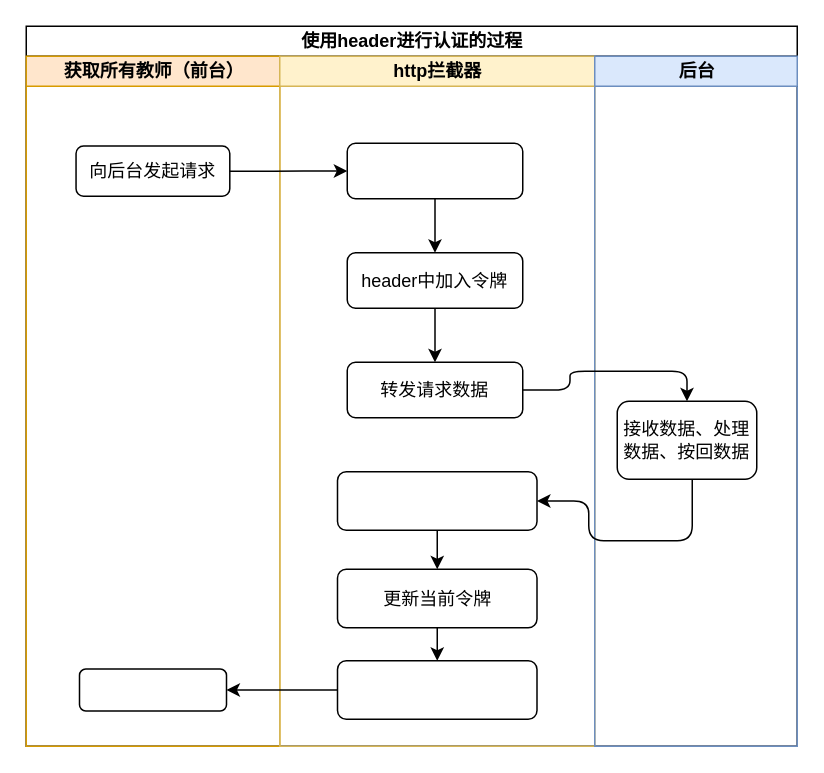
This 824x773 diagram has some shape labels left out. Each missing label, with the box of its shape:
接收数据: (78, 668, 226, 711)
获取header中的令牌: (336, 470, 537, 530)
获取当前令牌: (346, 142, 523, 199)
转发响应数据: (336, 659, 537, 719)
